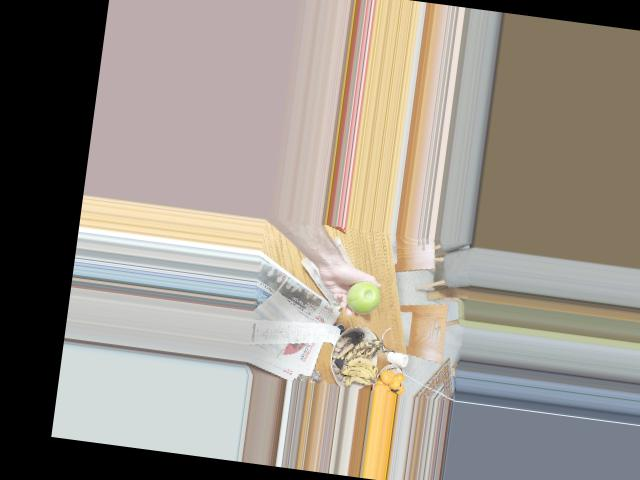apple: (343, 276, 383, 317)
